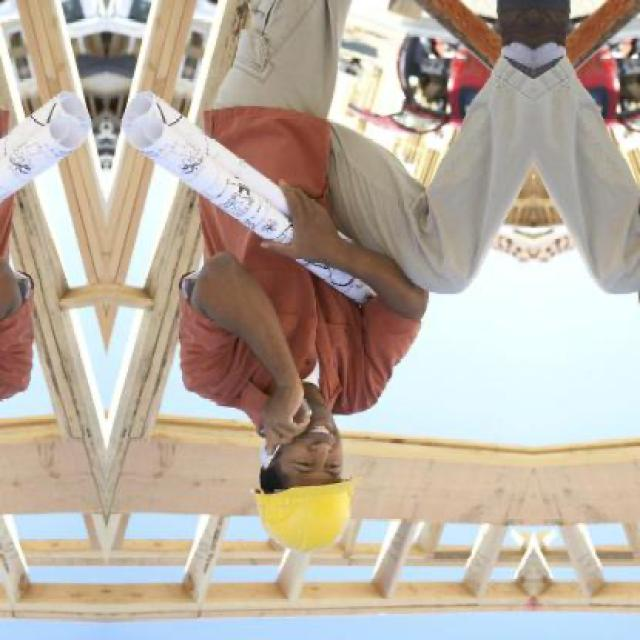safetyhelmet: (257, 443, 356, 558)
